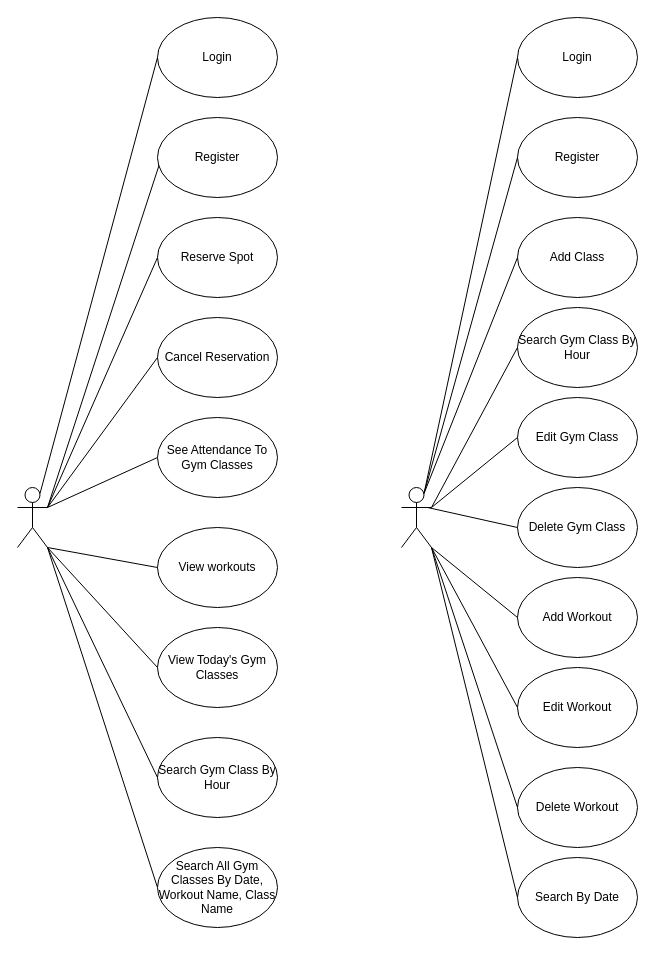
This 655x955 diagram has some shape labels left out. Here are the shapes that lost their labels. From the top down, the centre of each, then its label:
At [32,517]: "User".
At [416,517]: "Admin".
